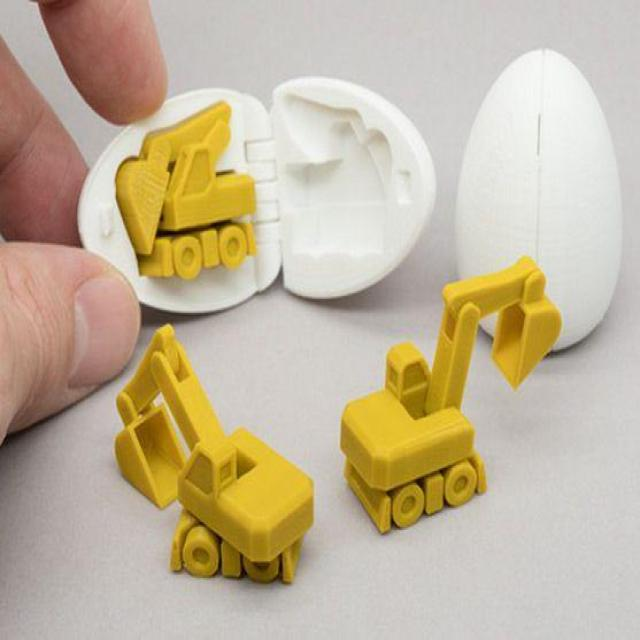Without deffect: (333, 248, 565, 544)
